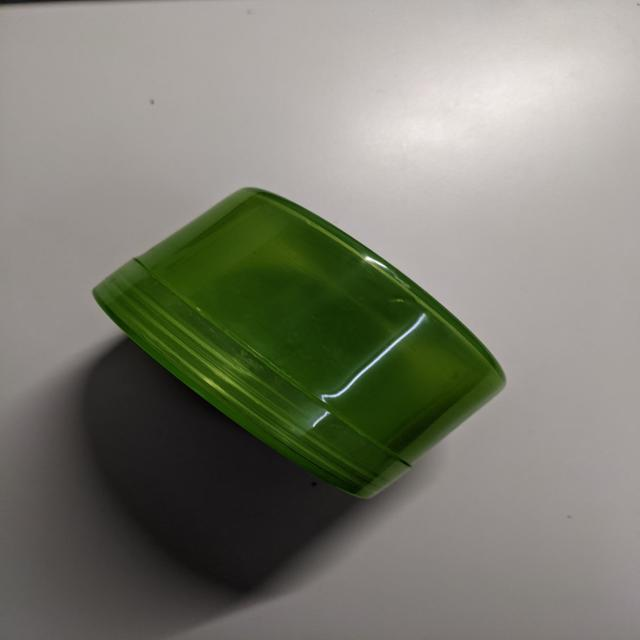Plastic: (96, 186, 501, 500)
